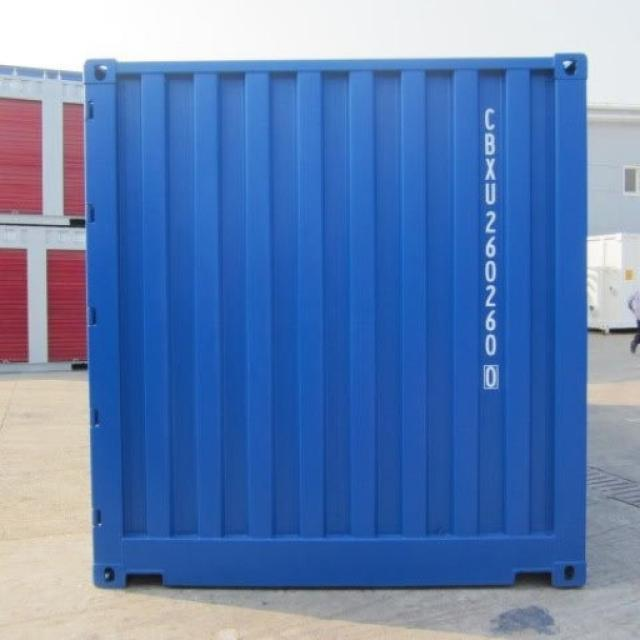container_number: (482, 103, 504, 393)
